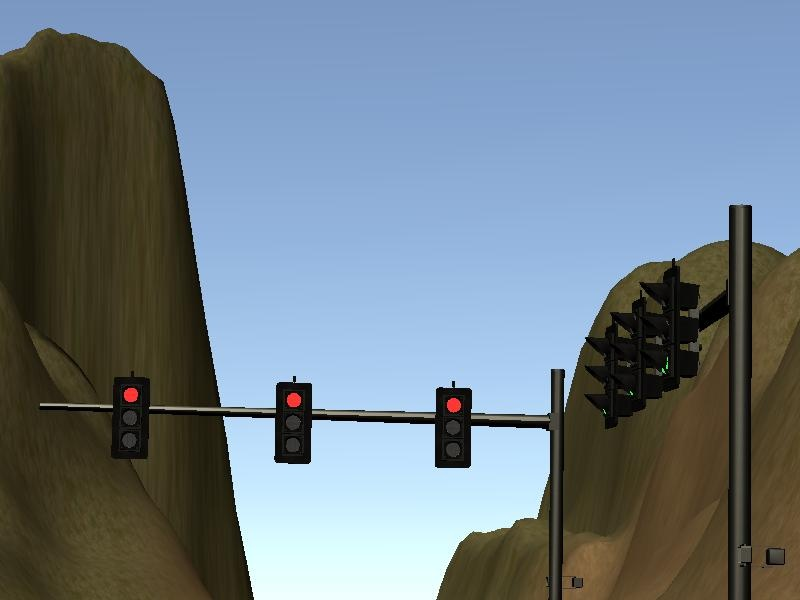red: (424, 377, 479, 472), (107, 367, 156, 465), (268, 370, 315, 466)
